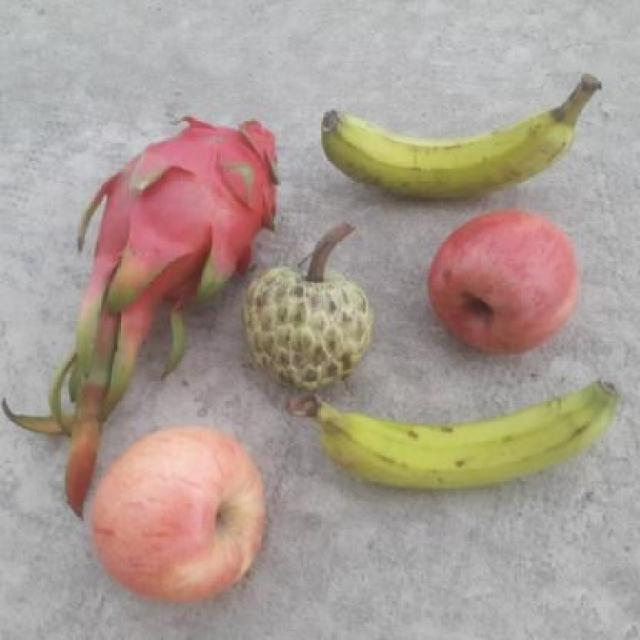apple: (88, 426, 270, 606), (428, 208, 582, 361)
banana: (292, 378, 616, 497), (318, 71, 598, 200)
dragon fruit: (78, 112, 284, 323)
sugar apple: (242, 256, 371, 390)
